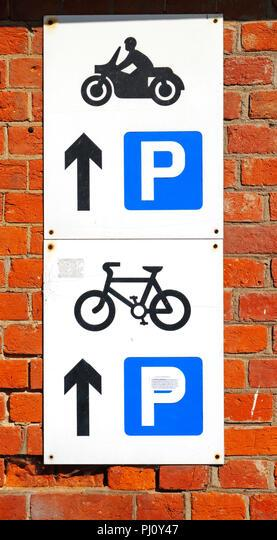Parking Lot Cycle: (51, 260, 212, 450)
